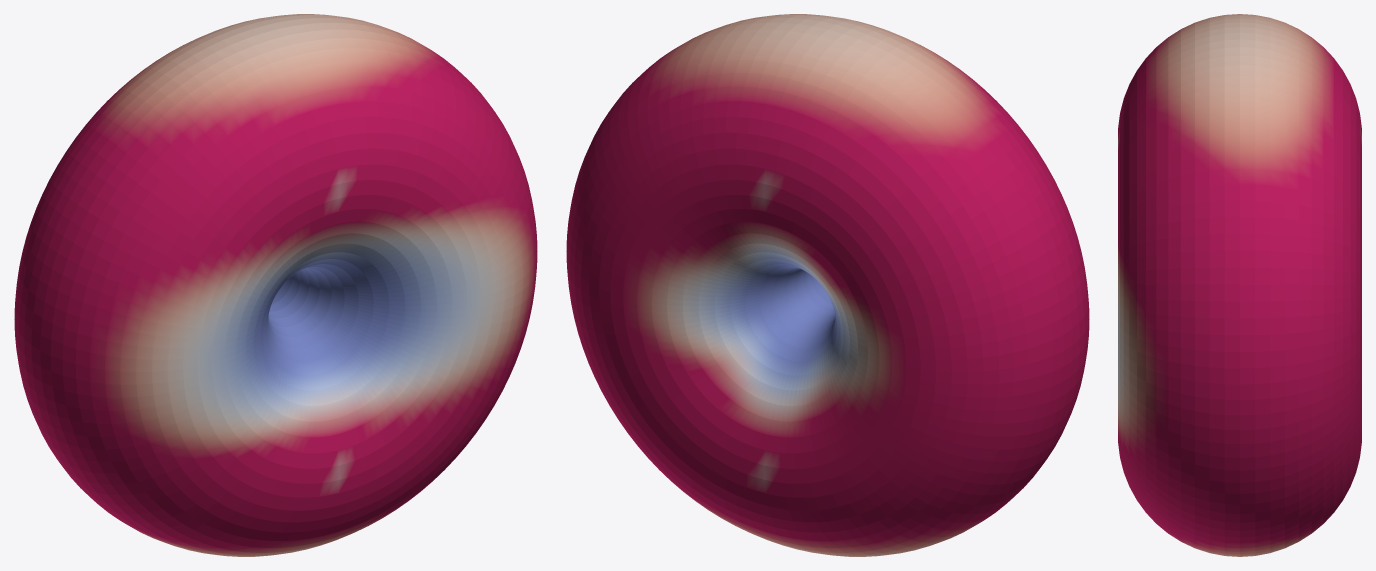
3 views of the same model, side by side, from view 1: azimuth 30°, elevation 25°; view 2: azimuth 150°, elevation 25°; view 3: azimuth 270°, elevation 25° (orthographic). The views are drawn at different scales.
Visible parts, largest first — view 1: world; view 2: world; view 3: world.
Part boxes in pixels (left/top/right/bottom): world: left=14, top=14, right=537, bottom=556; world: left=566, top=14, right=1089, bottom=556; world: left=1118, top=14, right=1361, bottom=556.
Size of the model in its own units: 22.22 by 22.22 by 9.98.
